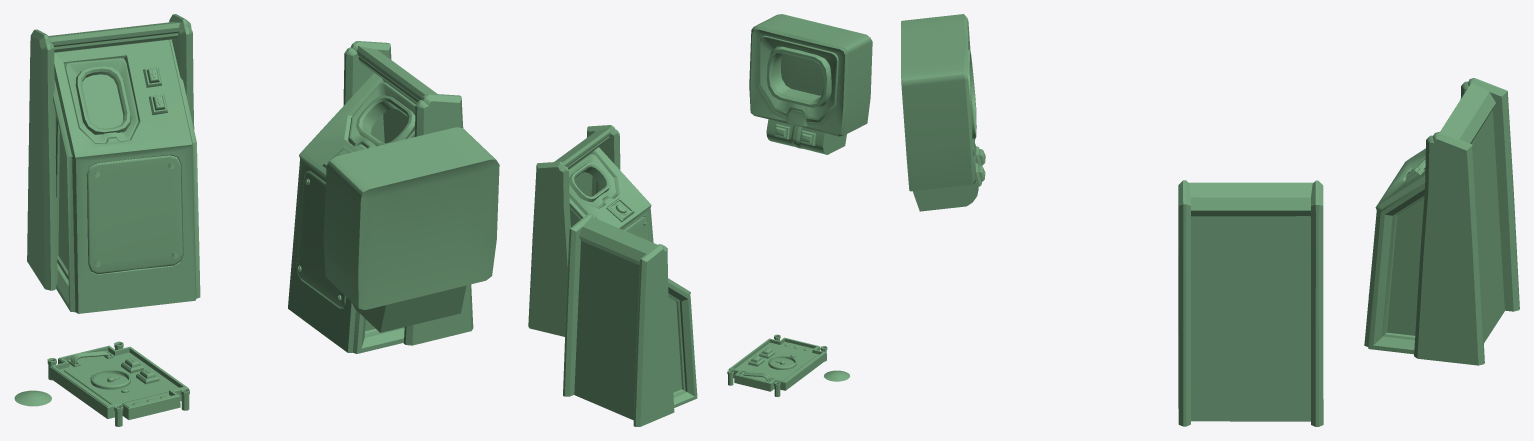
The model's file is ReactorMinigames.fbx.
The picture shows the model from 3 angles, left to right: view 1: azimuth 30°, elevation 25°; view 2: azimuth 150°, elevation 25°; view 3: azimuth 270°, elevation 25°; orthographic projection. The views are drawn at different scales.
Visible parts, largest first — view 1: ReactorMinigames_Geo, TempScreenBacking_Geo, ReactorMinigamesGlass_Geo; view 2: ReactorMinigames_Geo; view 3: ReactorMinigames_Geo.
Part boxes in pixels (<box>): ReactorMinigames_Geo: <box>27,14,499,426</box>; TempScreenBacking_Geo: <box>82,74,123,128</box>; ReactorMinigamesGlass_Geo: <box>14,390,51,406</box>; ReactorMinigames_Geo: <box>528,14,872,426</box>; ReactorMinigames_Geo: <box>901,14,1519,426</box>.
Size of the model in its own units: 244 by 187 by 337.
